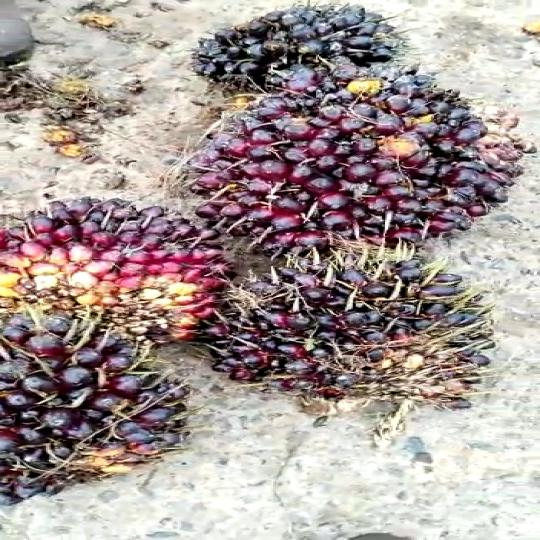kurang masak: (181, 82, 507, 268), (216, 240, 484, 433), (0, 314, 205, 516), (0, 180, 235, 323), (158, 1, 400, 99)
